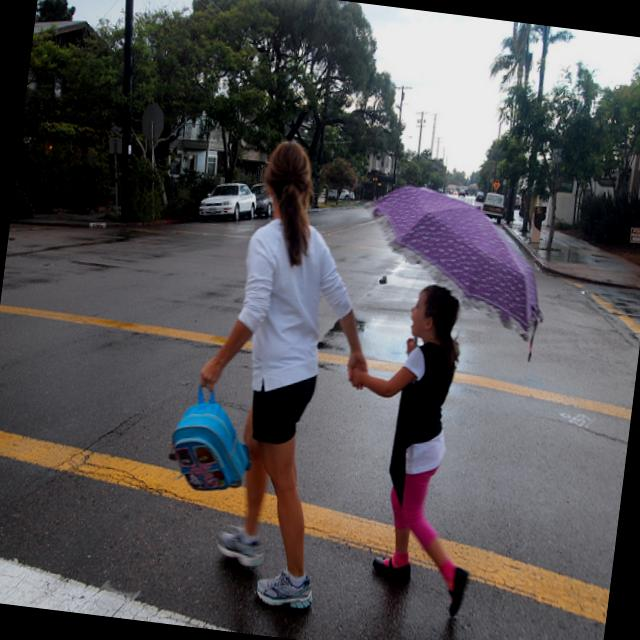Vehicle: (197, 178, 260, 230), (244, 182, 276, 216), (478, 190, 506, 224), (479, 191, 506, 223), (338, 188, 356, 202), (474, 188, 486, 202), (514, 194, 522, 209), (328, 189, 337, 201), (457, 189, 465, 198)
